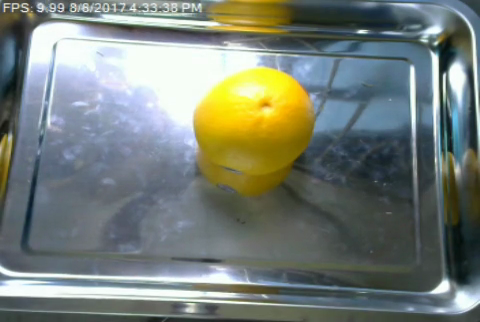Orange: (192, 66, 316, 175)
